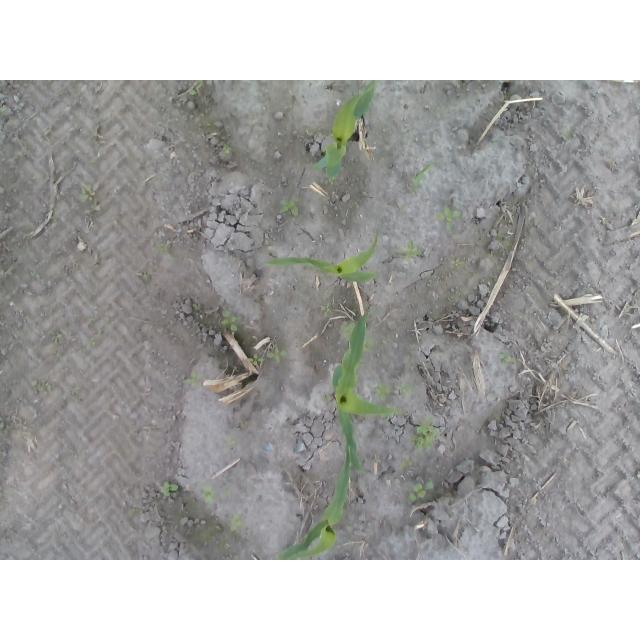Maize: (331, 309, 409, 475), (276, 445, 352, 559), (263, 225, 381, 286), (312, 80, 380, 182)
Weeds: (340, 318, 376, 354), (410, 417, 442, 451), (410, 163, 436, 190), (220, 310, 243, 334), (395, 241, 421, 261), (409, 482, 435, 502), (78, 181, 100, 203), (281, 198, 301, 219), (267, 347, 289, 366), (374, 380, 393, 402), (438, 206, 458, 226), (160, 482, 179, 501), (183, 372, 205, 388), (230, 514, 247, 534), (87, 329, 104, 349), (395, 380, 415, 396), (400, 454, 413, 478), (203, 483, 216, 505), (32, 381, 52, 395), (247, 353, 266, 367), (498, 351, 518, 363), (49, 331, 63, 345), (188, 81, 202, 95), (156, 243, 171, 254), (84, 206, 101, 215), (323, 303, 333, 317), (451, 259, 466, 268), (563, 130, 574, 142), (193, 302, 202, 314), (227, 436, 235, 449), (143, 271, 153, 281), (224, 143, 233, 153)
